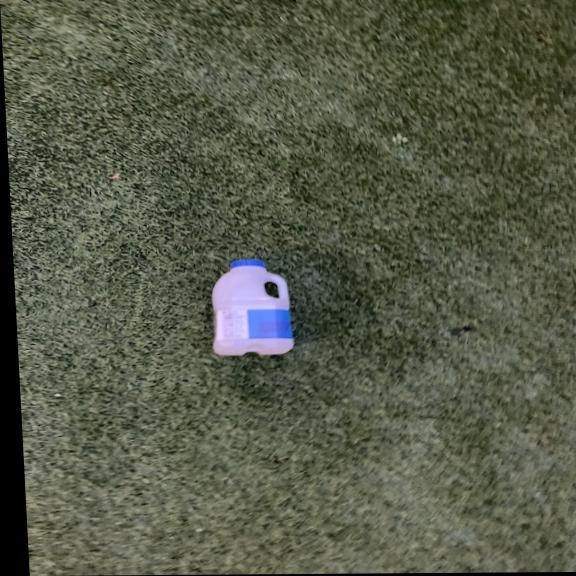Plastik: (206, 254, 300, 359)
